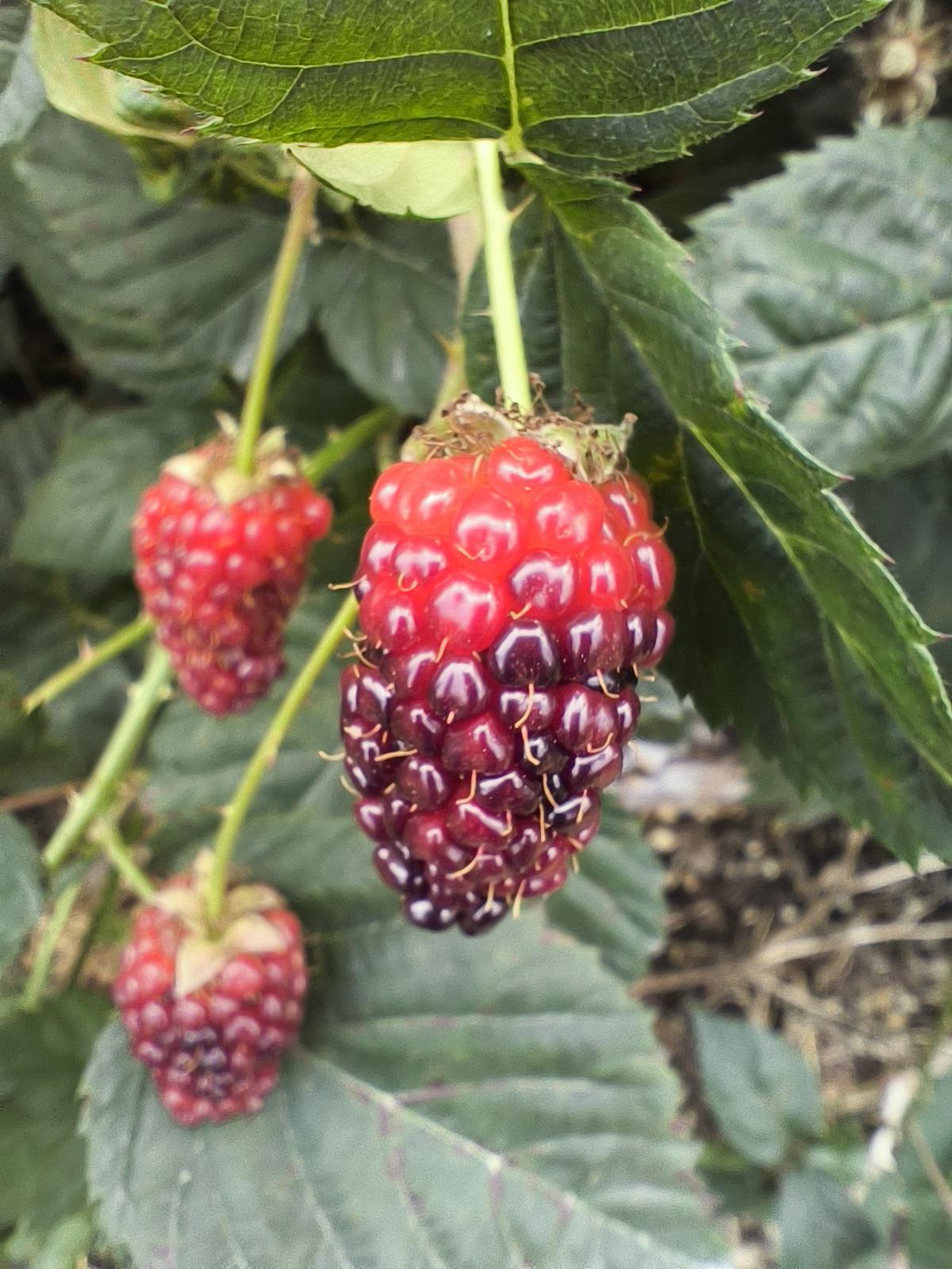marron: (340, 416, 672, 933), (132, 432, 332, 715), (114, 871, 305, 1126)
